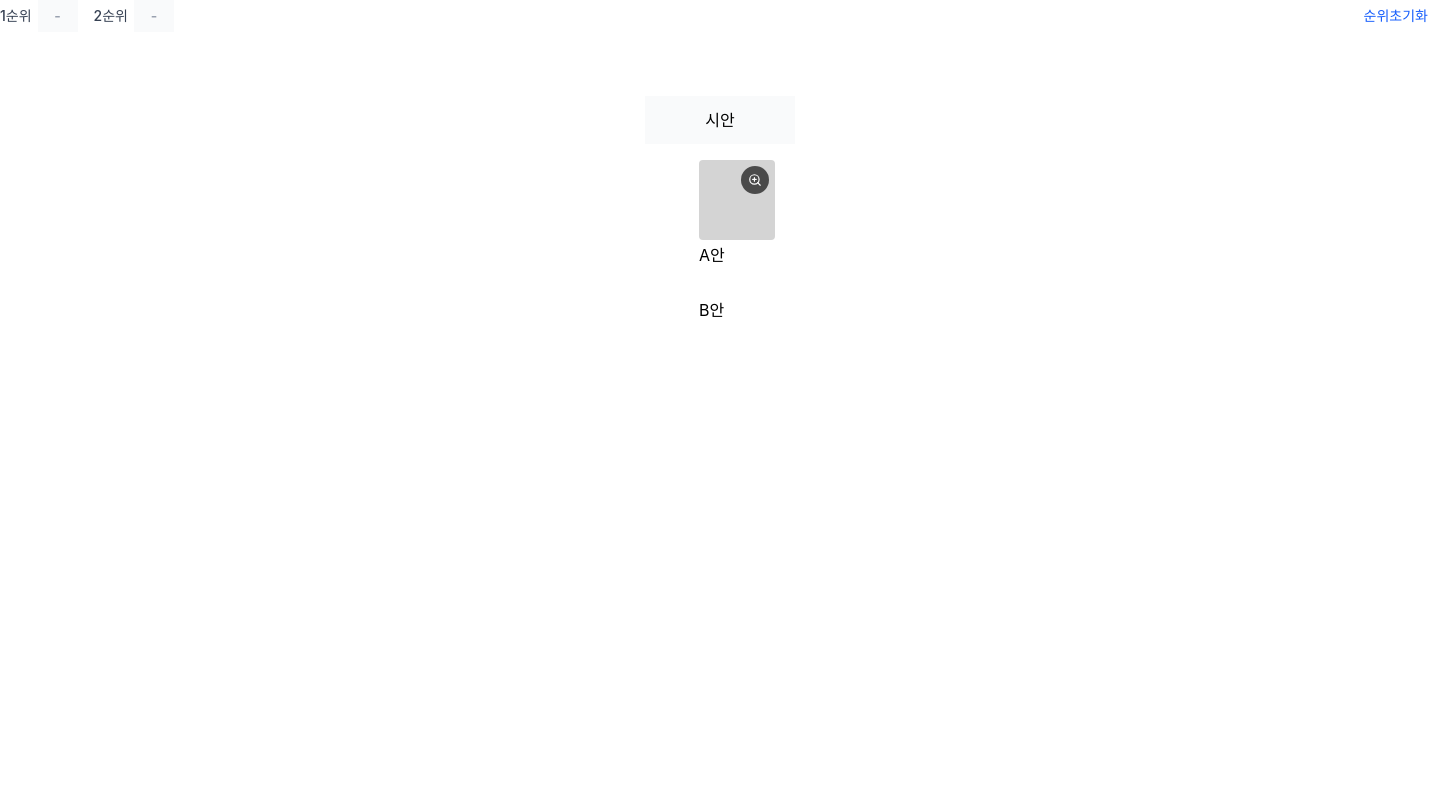
Test: 순위형 보기 이미지 — 돋보기 버튼 › 클릭 방식: 크게 보기 안을 누르고 닫아도 순위는 그대로다
This screenshot has width=1440, height=810.
Click the button named "A안 크게 보기" at (755, 180), box [741,166,769,194]
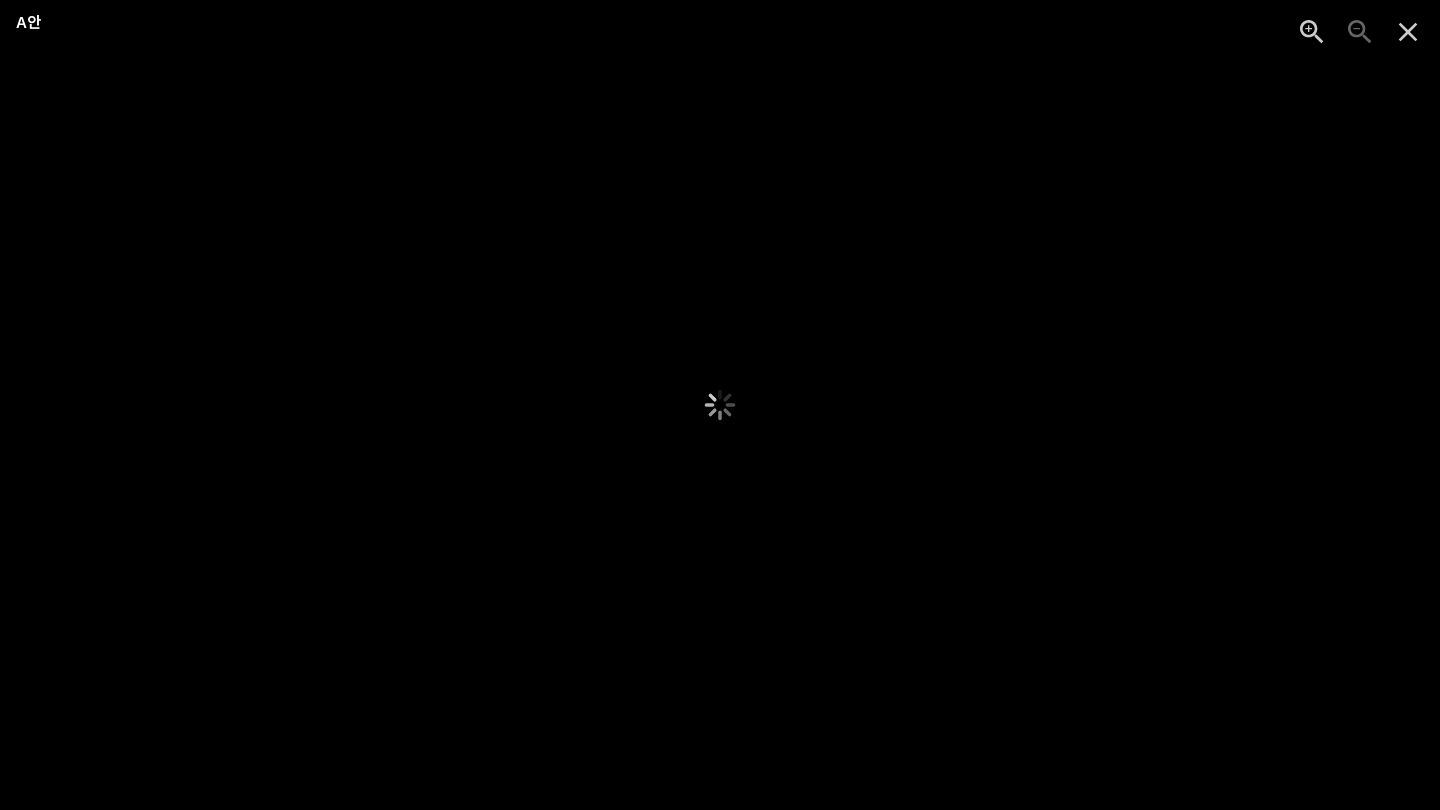
Click the button named "닫기" at (1408, 32), box [1384,8,1432,56]
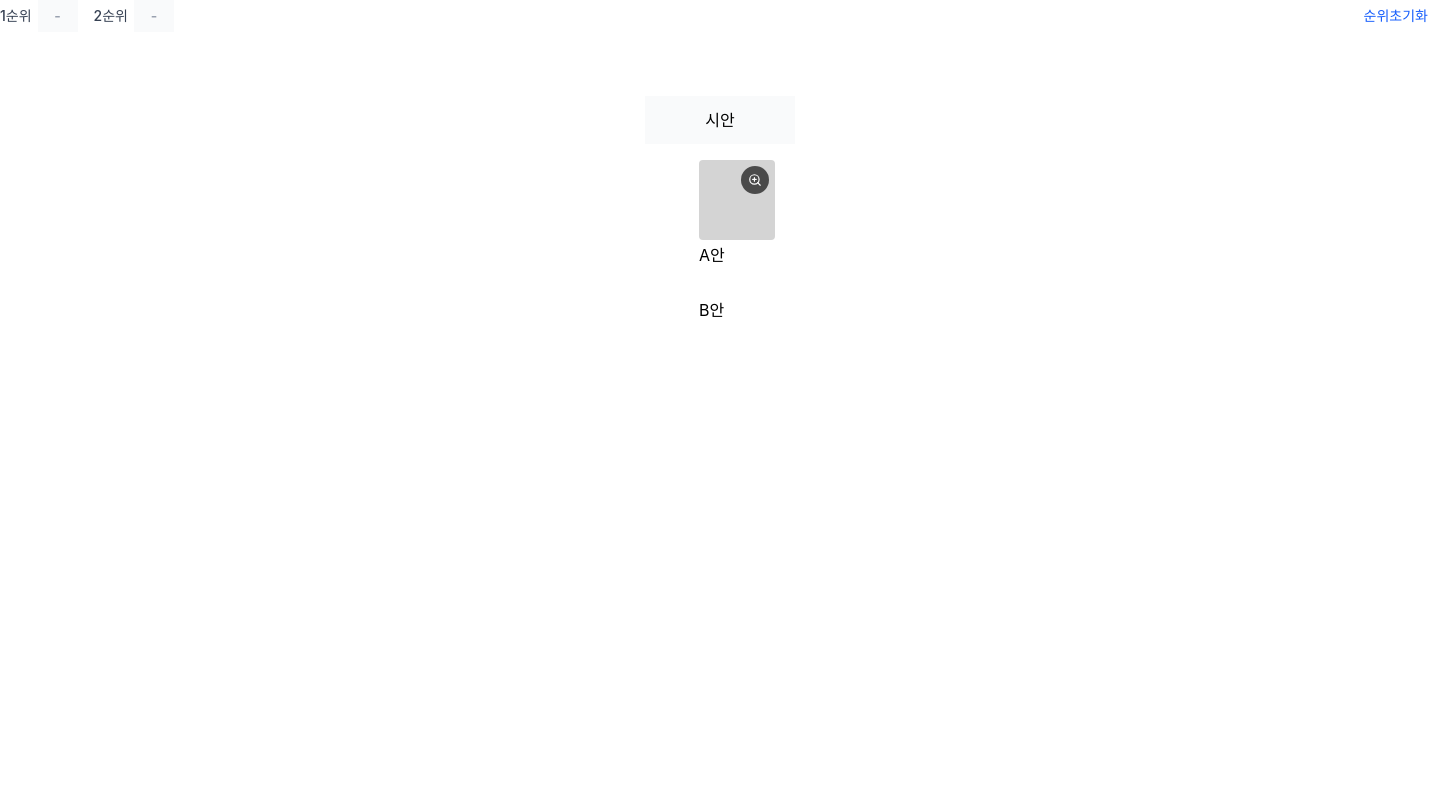
expect the dialog is gone: met
